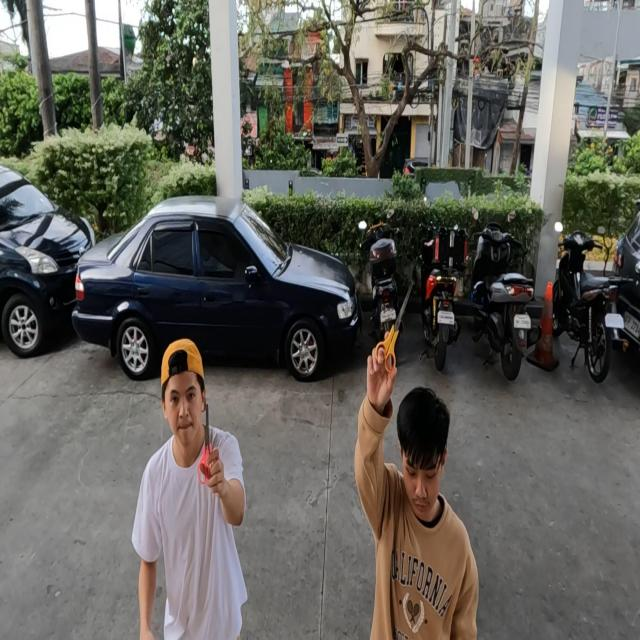scissor: (375, 280, 415, 374), (197, 402, 219, 486)
